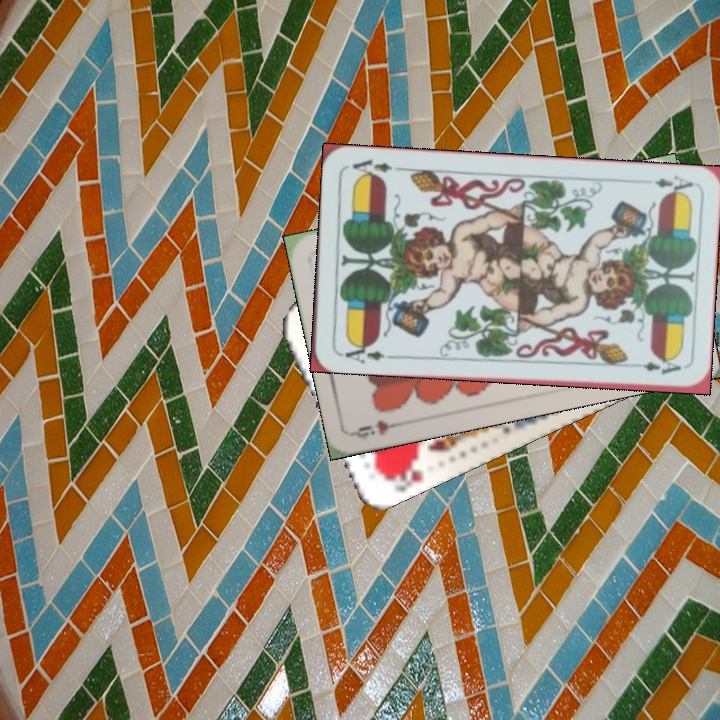EA: (336, 338, 395, 366), (650, 171, 696, 198)
H9: (350, 416, 409, 442)
HK: (378, 455, 427, 494)
